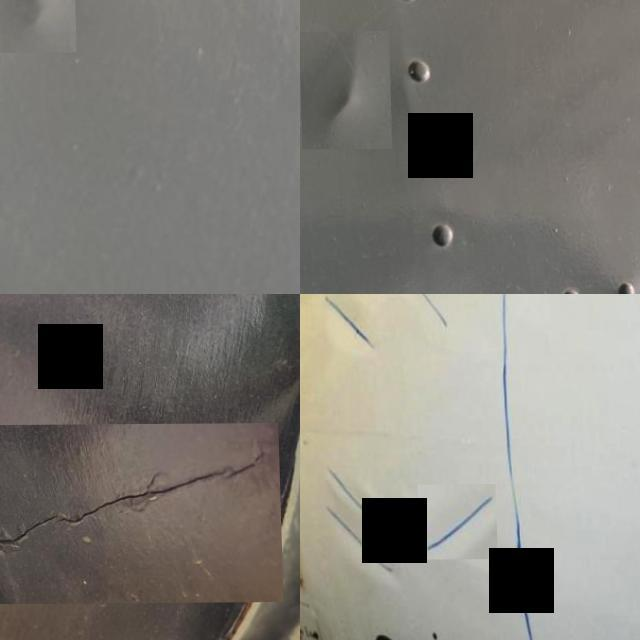Crack: (0, 423, 281, 604)
Dent: (300, 31, 390, 150), (417, 486, 494, 560), (318, 501, 390, 579), (0, 0, 74, 53), (323, 294, 373, 351)
